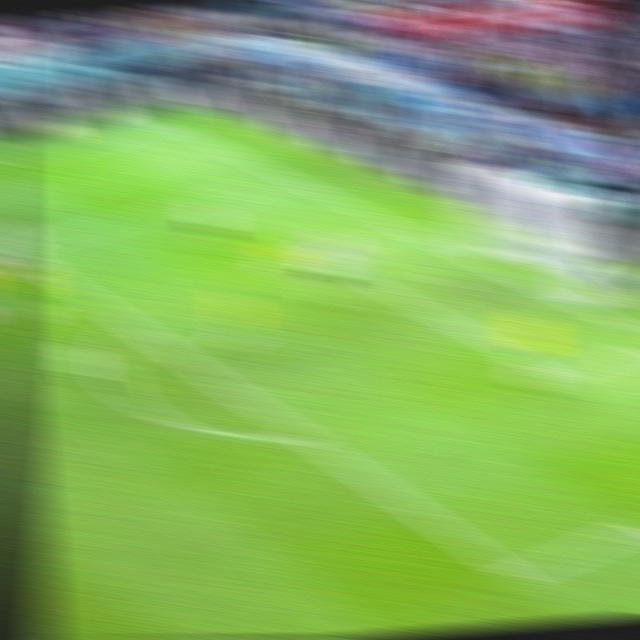bigarea_bottom_inner: (491, 559, 538, 597)
bigarea_top_outter: (269, 168, 306, 190)
bottom_arc_area_intersection: (281, 416, 325, 458)
corner: (148, 115, 185, 133)
smallarea_bottom_inner: (541, 364, 577, 388)
smallarea_top_outter: (386, 218, 422, 244)
top_arc_area_intersection: (113, 315, 151, 338)
